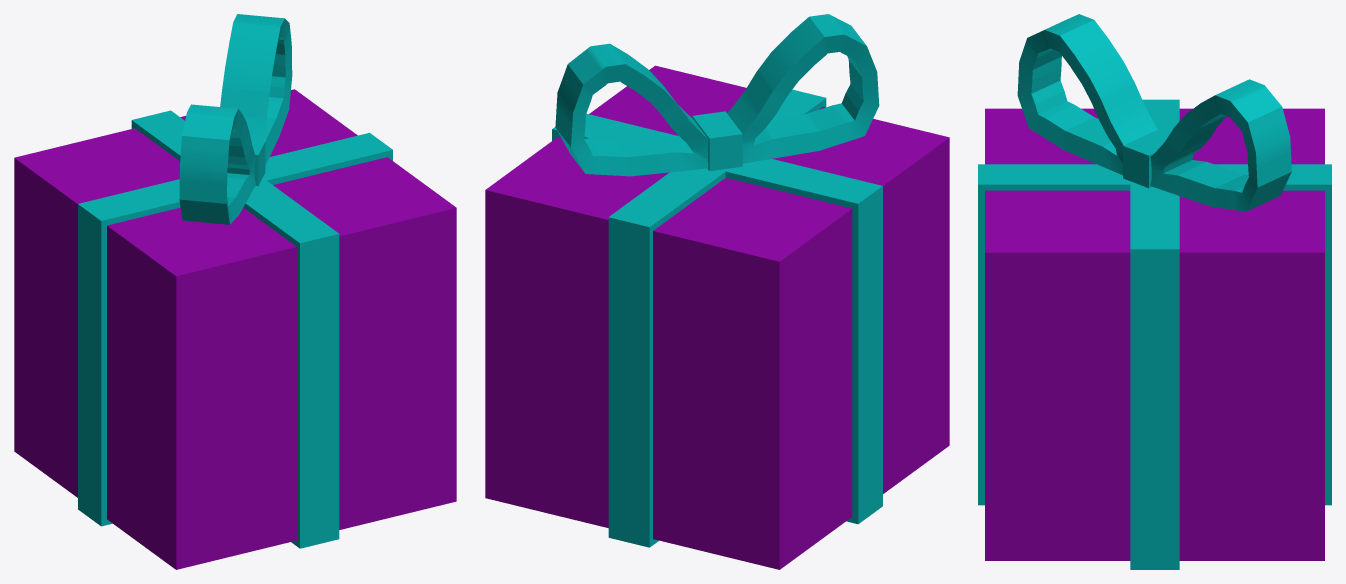
The model's file is Present2.fbx.
3 renders of one model, left to right at view 1: azimuth 30°, elevation 25°; view 2: azimuth 150°, elevation 25°; view 3: azimuth 270°, elevation 25°, orthographic. The views are drawn at different scales.
Visible parts, largest first — view 1: Present2; view 2: Present2; view 3: Present2.
Part boxes in pixels (x1,y1,x2,y2): Present2: [14, 14, 456, 569]; Present2: [485, 14, 949, 569]; Present2: [978, 14, 1331, 569].
Size of the model in its own units: 5.2 by 7.1 by 5.2.
